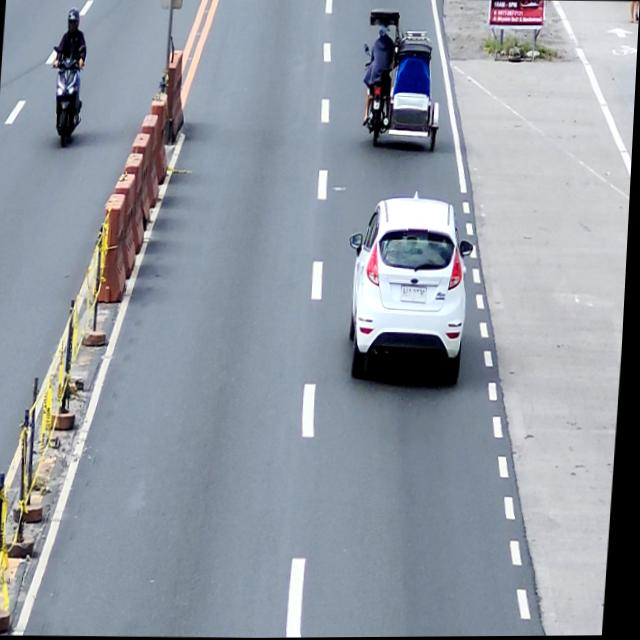Car: (343, 190, 479, 383)
License-Plate: (402, 283, 430, 304)
Motorcycle: (48, 50, 87, 147)
Tricycle: (359, 9, 447, 152)
